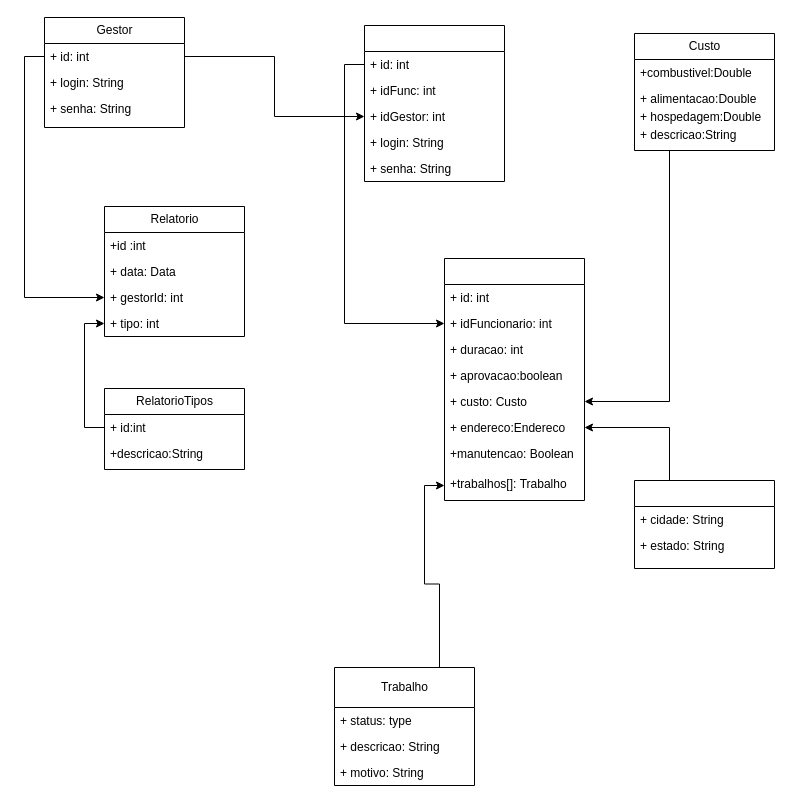
The diagram is 792 pixels wide and 806 high, and some of its shapes have lost their labels. Each missing label, with the box of its shape:
Endereco: (634, 480, 774, 568)
Funcionario: (364, 24, 504, 182)
Viagem: (444, 258, 584, 500)
